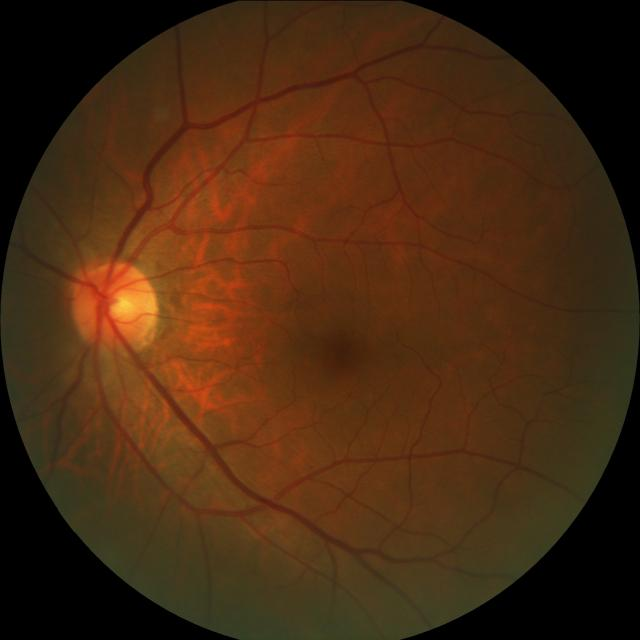OC: (104, 288, 136, 324)
OD: (71, 258, 161, 348)
